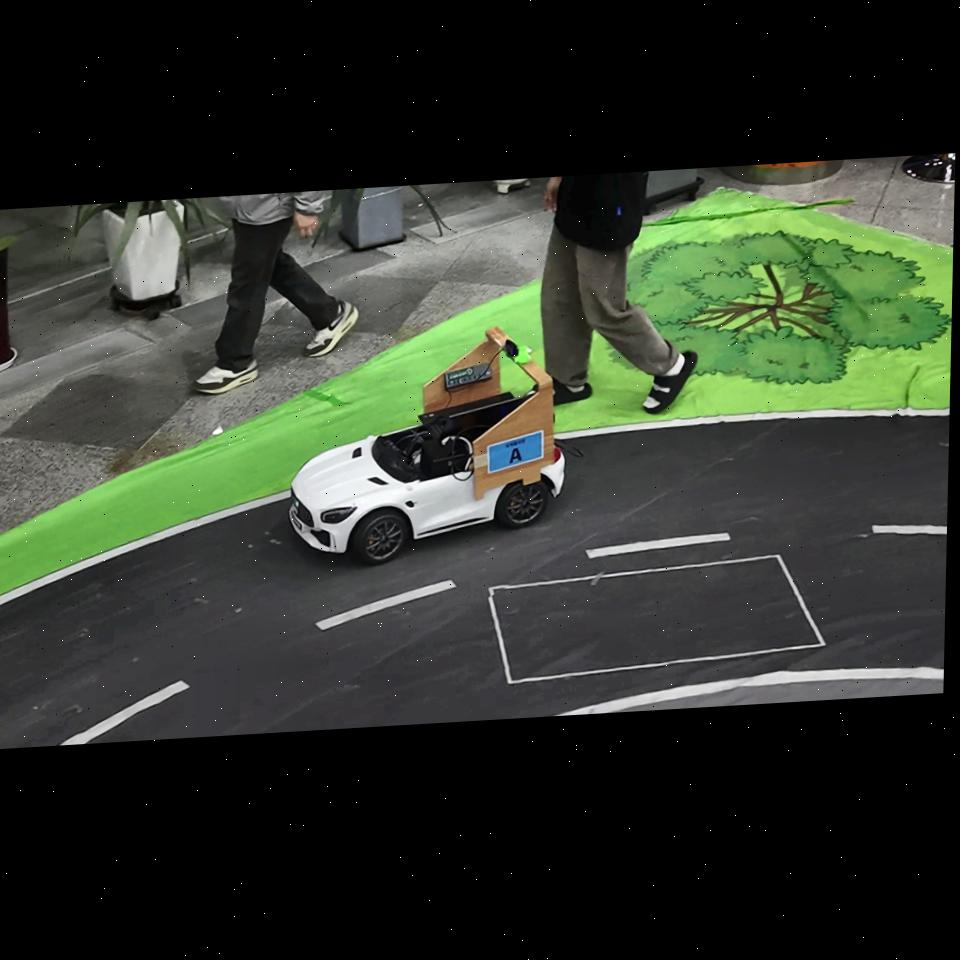broken_line: (60, 679, 192, 745), (315, 579, 458, 630), (584, 533, 731, 558), (873, 526, 947, 535)
